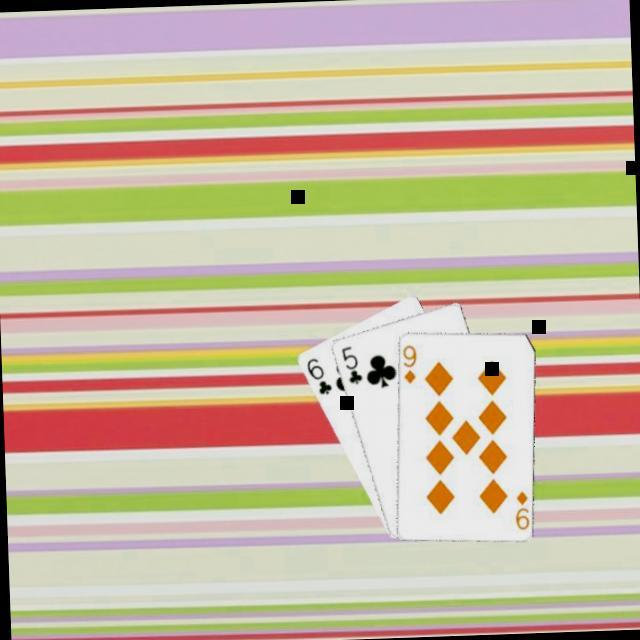5C: (336, 343, 364, 389)
6C: (302, 355, 334, 399)
9D: (397, 341, 419, 387), (509, 488, 531, 533)
